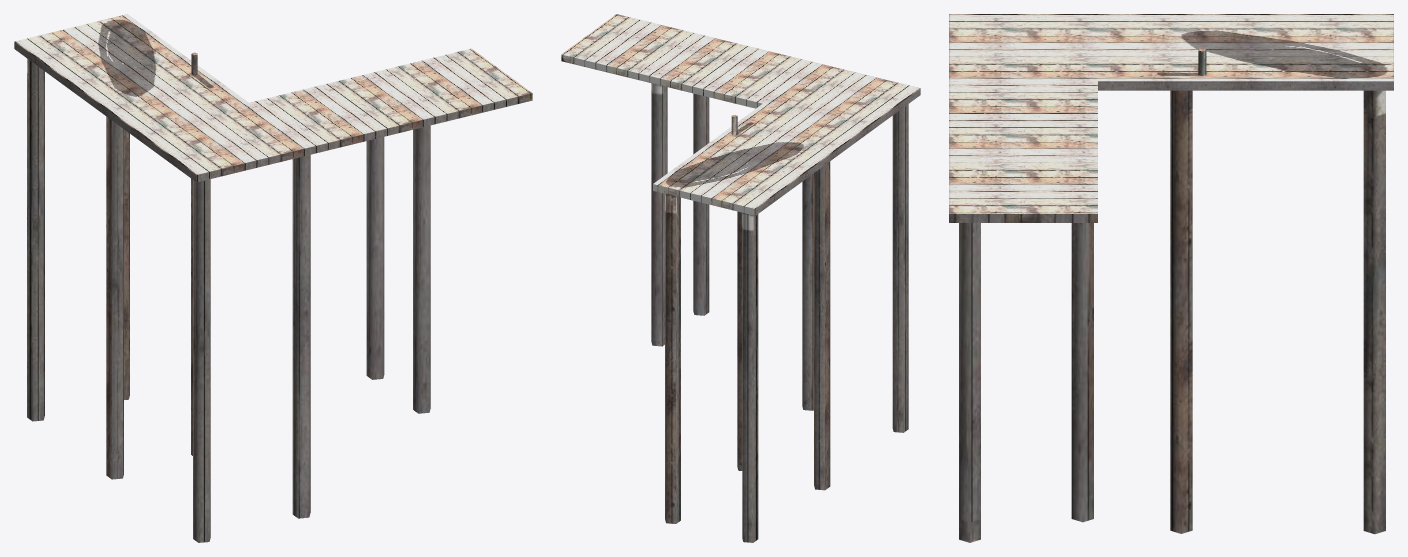
File: Pier2.fbx
3 views of the same model, side by side, from view 1: azimuth 30°, elevation 25°; view 2: azimuth 150°, elevation 25°; view 3: azimuth 270°, elevation 25° (orthographic). The views are drawn at different scales.
Visible parts, largest first — view 1: Gom_Pier2_00; view 2: Gom_Pier2_00; view 3: Gom_Pier2_00.
Part boxes in pixels (x1,y1,x2,y2): Gom_Pier2_00: (14,14,532,542); Gom_Pier2_00: (561,14,920,542); Gom_Pier2_00: (949,14,1393,542).
Size of the model in its own units: 7.13 by 8 by 6.7.
